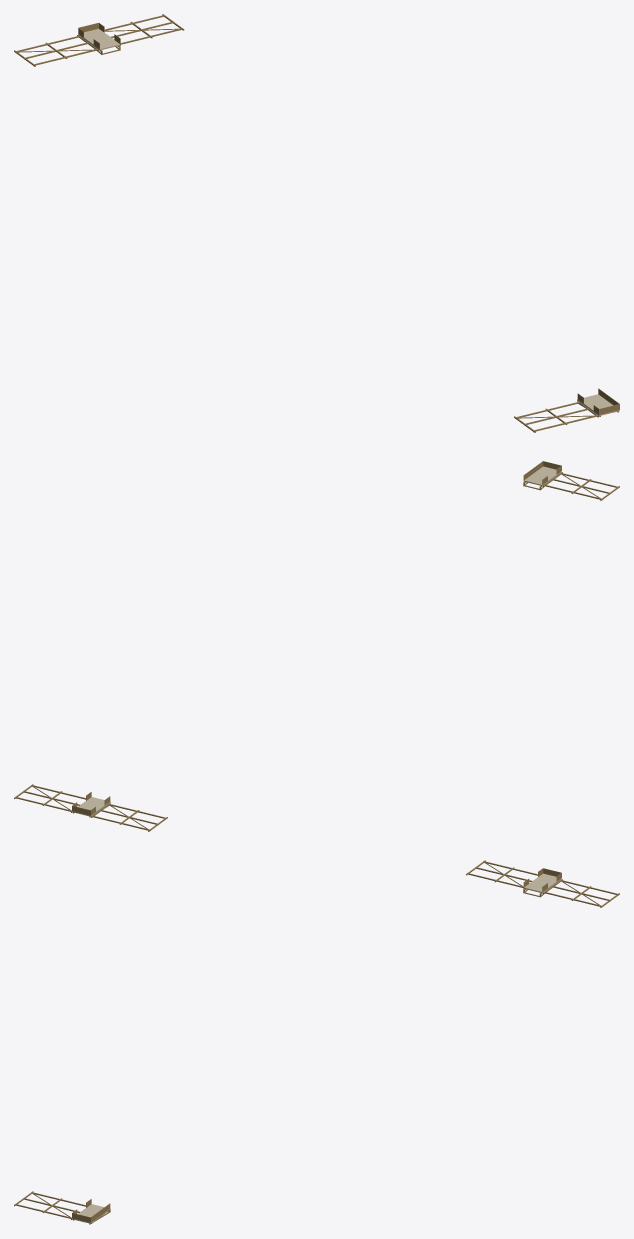
File: StarAtlasSpecialtyEleventhReceiving.glb
3 renders of one model, top to bottom at view 1: azimuth 30°, elevation 25°; view 2: azimuth 150°, elevation 25°; view 3: azimuth 330°, elevation 25°, orthographic. The views are drawn at different scales.
Bounding box in the file's own units: 29.9 × 2.1 × 180.
Materials: 2 (2 with a texture image).
